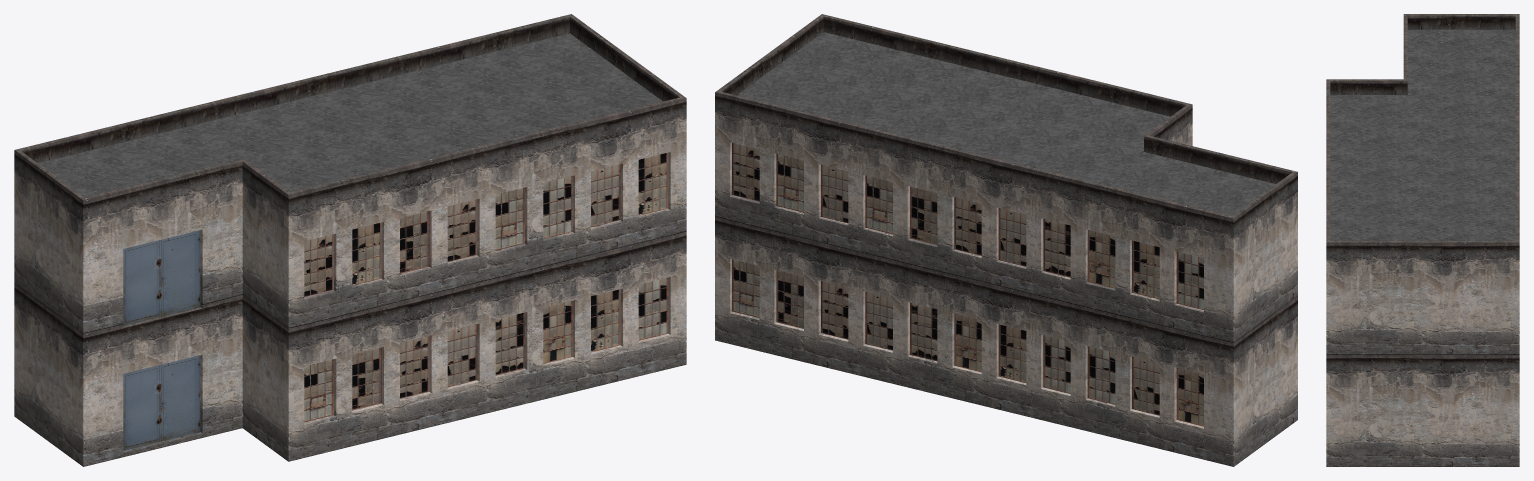
File: Derelict_Building_2.FBX
3 views of the same model, side by side, from view 1: azimuth 30°, elevation 25°; view 2: azimuth 150°, elevation 25°; view 3: azimuth 270°, elevation 25° (orthographic). The views are drawn at different scales.
Visible parts, largest first — view 1: Derelict_Building_2; view 2: Derelict_Building_2; view 3: Derelict_Building_2.
Boxes of the visible parts, bbox=[...] form: Derelict_Building_2: bbox=[14, 14, 686, 466]; Derelict_Building_2: bbox=[715, 14, 1297, 466]; Derelict_Building_2: bbox=[1326, 14, 1519, 466].
Size of the model in its own units: 1400 by 640 by 500.
